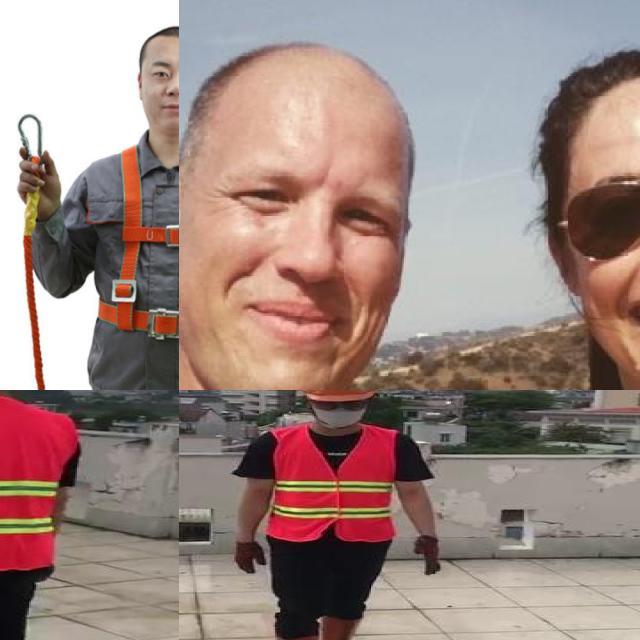Harness: (100, 141, 179, 330)
No_Ear-Protection: (179, 153, 188, 273)
No_Glasses: (145, 58, 179, 88)
boots: (318, 616, 364, 640)
face_mask: (310, 396, 372, 430)
face_nomask: (220, 168, 391, 360)
glasses: (562, 151, 640, 256), (309, 396, 369, 414)
hand_glove: (232, 540, 268, 574), (414, 536, 442, 579)
head_helmet: (179, 40, 521, 390), (302, 390, 377, 402)
head_nohelmet: (202, 31, 404, 125), (563, 49, 640, 135)
person: (229, 390, 460, 640), (0, 390, 96, 640)
vest: (268, 425, 396, 544), (0, 396, 75, 568)
